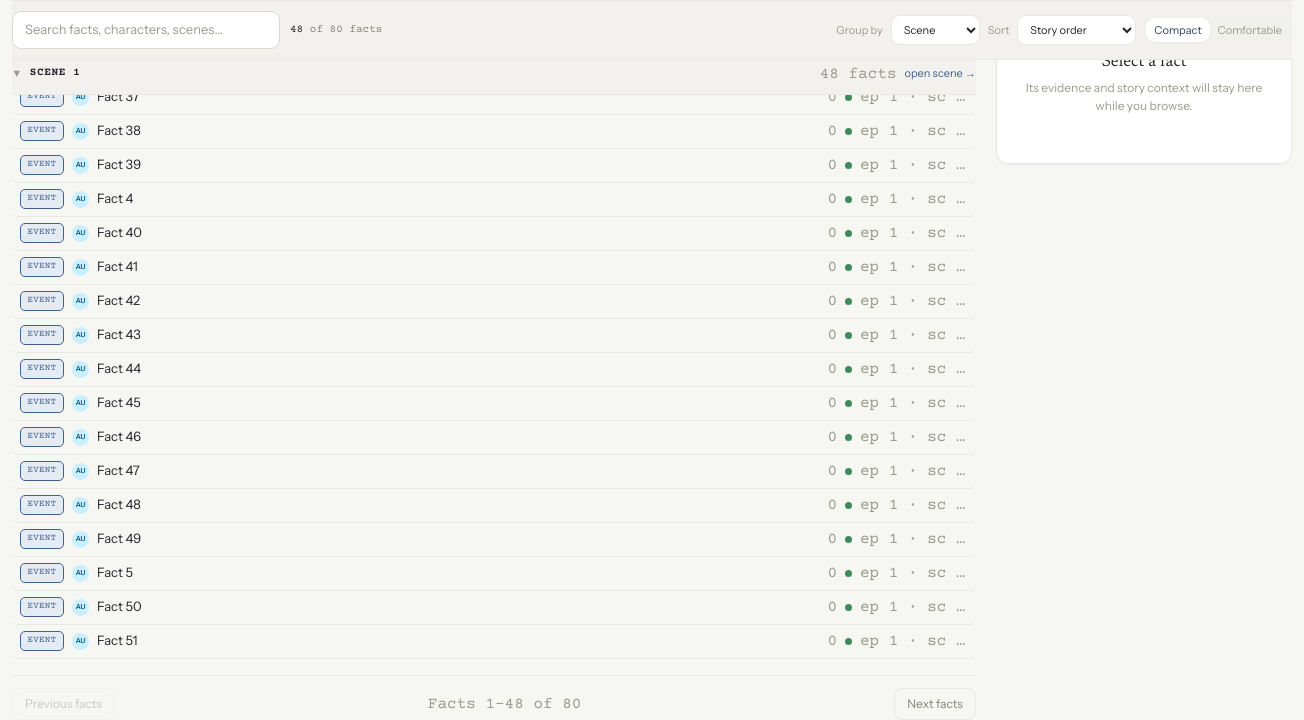
Test case: StoryAtlas › caps the rendered fact window and pages through a large ledger
This screenshot has width=1304, height=720.
(page scrolled)
Click the button "Next facts" at (935, 704), box [894, 688, 976, 719]
(page scrolled)
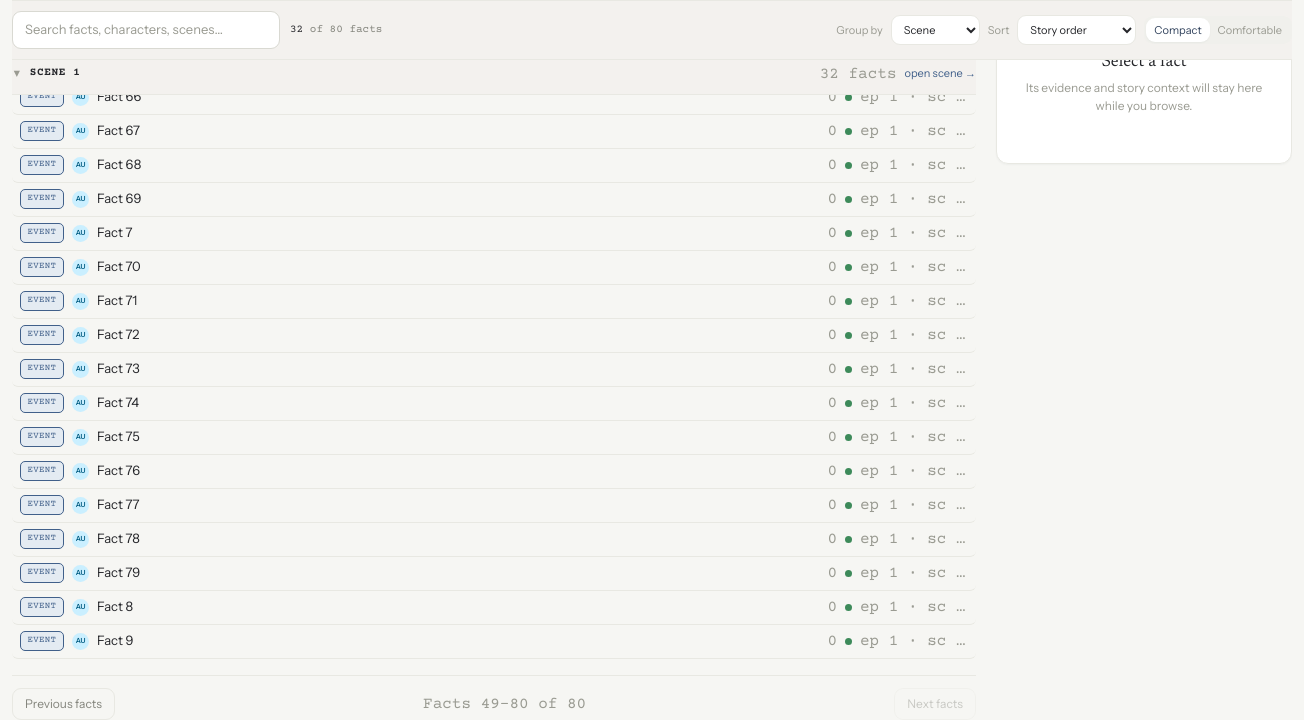
Expected: the text "Facts 49–80 of 80" is shown, [423, 692, 586, 716]
